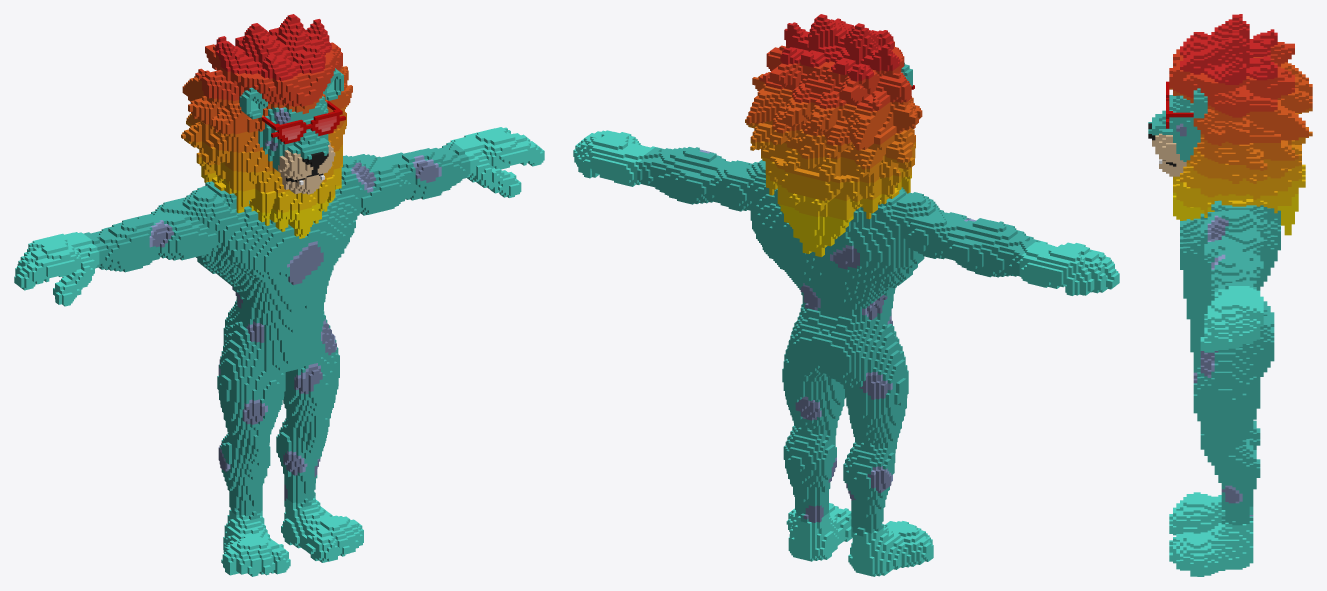
The model's file is 561-CCZTvyr8.glb.
3 renders of one model, left to right at view 1: azimuth 30°, elevation 25°; view 2: azimuth 150°, elevation 25°; view 3: azimuth 270°, elevation 25°, orthographic. The views are drawn at different scales.
Visible parts, largest first — view 1: standard; view 2: standard; view 3: standard.
Part boxes in pixels (box(x1,y1,x2,y2)): standard: box(14, 14, 544, 576); standard: box(573, 14, 1119, 576); standard: box(1148, 14, 1312, 576).
Bounding box in the file's own units: 17.2 × 16.5 × 4.7.
Materials: 4 (4 with a texture image).
